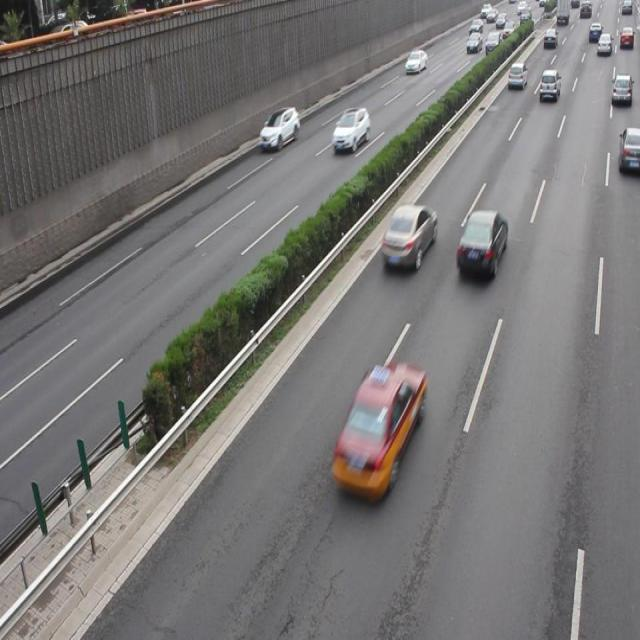car: (331, 359, 425, 499), (380, 203, 436, 268), (455, 210, 508, 277), (331, 105, 370, 153), (258, 105, 299, 149), (617, 125, 640, 177)
